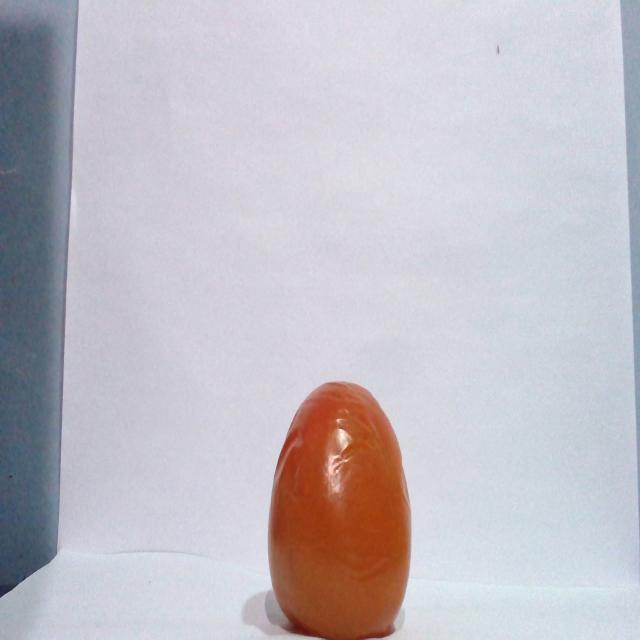Red: (266, 379, 412, 638)
